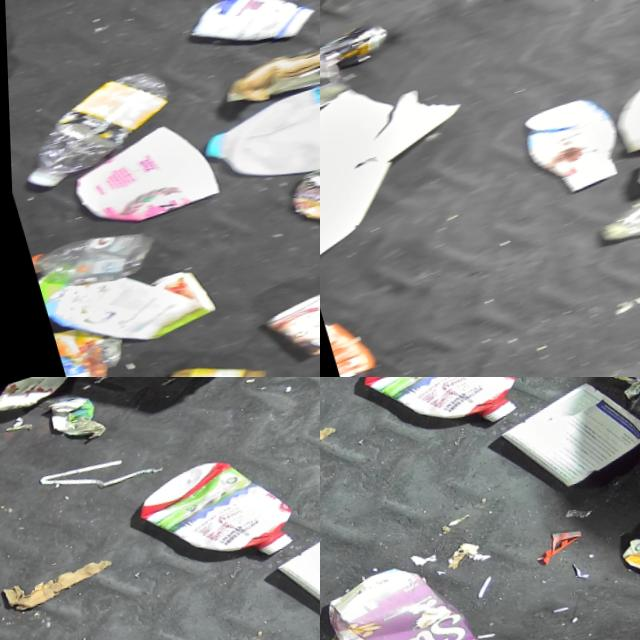can: (251, 282, 320, 375), (320, 16, 394, 84), (279, 151, 320, 244), (53, 331, 126, 377), (0, 377, 83, 416), (320, 45, 351, 117)
milk_jug: (190, 53, 320, 210)
non_white_jug: (129, 445, 301, 594), (320, 551, 487, 640), (352, 377, 524, 461), (606, 490, 640, 597)
plastic_bottle: (6, 63, 185, 194), (25, 216, 160, 304), (580, 139, 640, 268)
